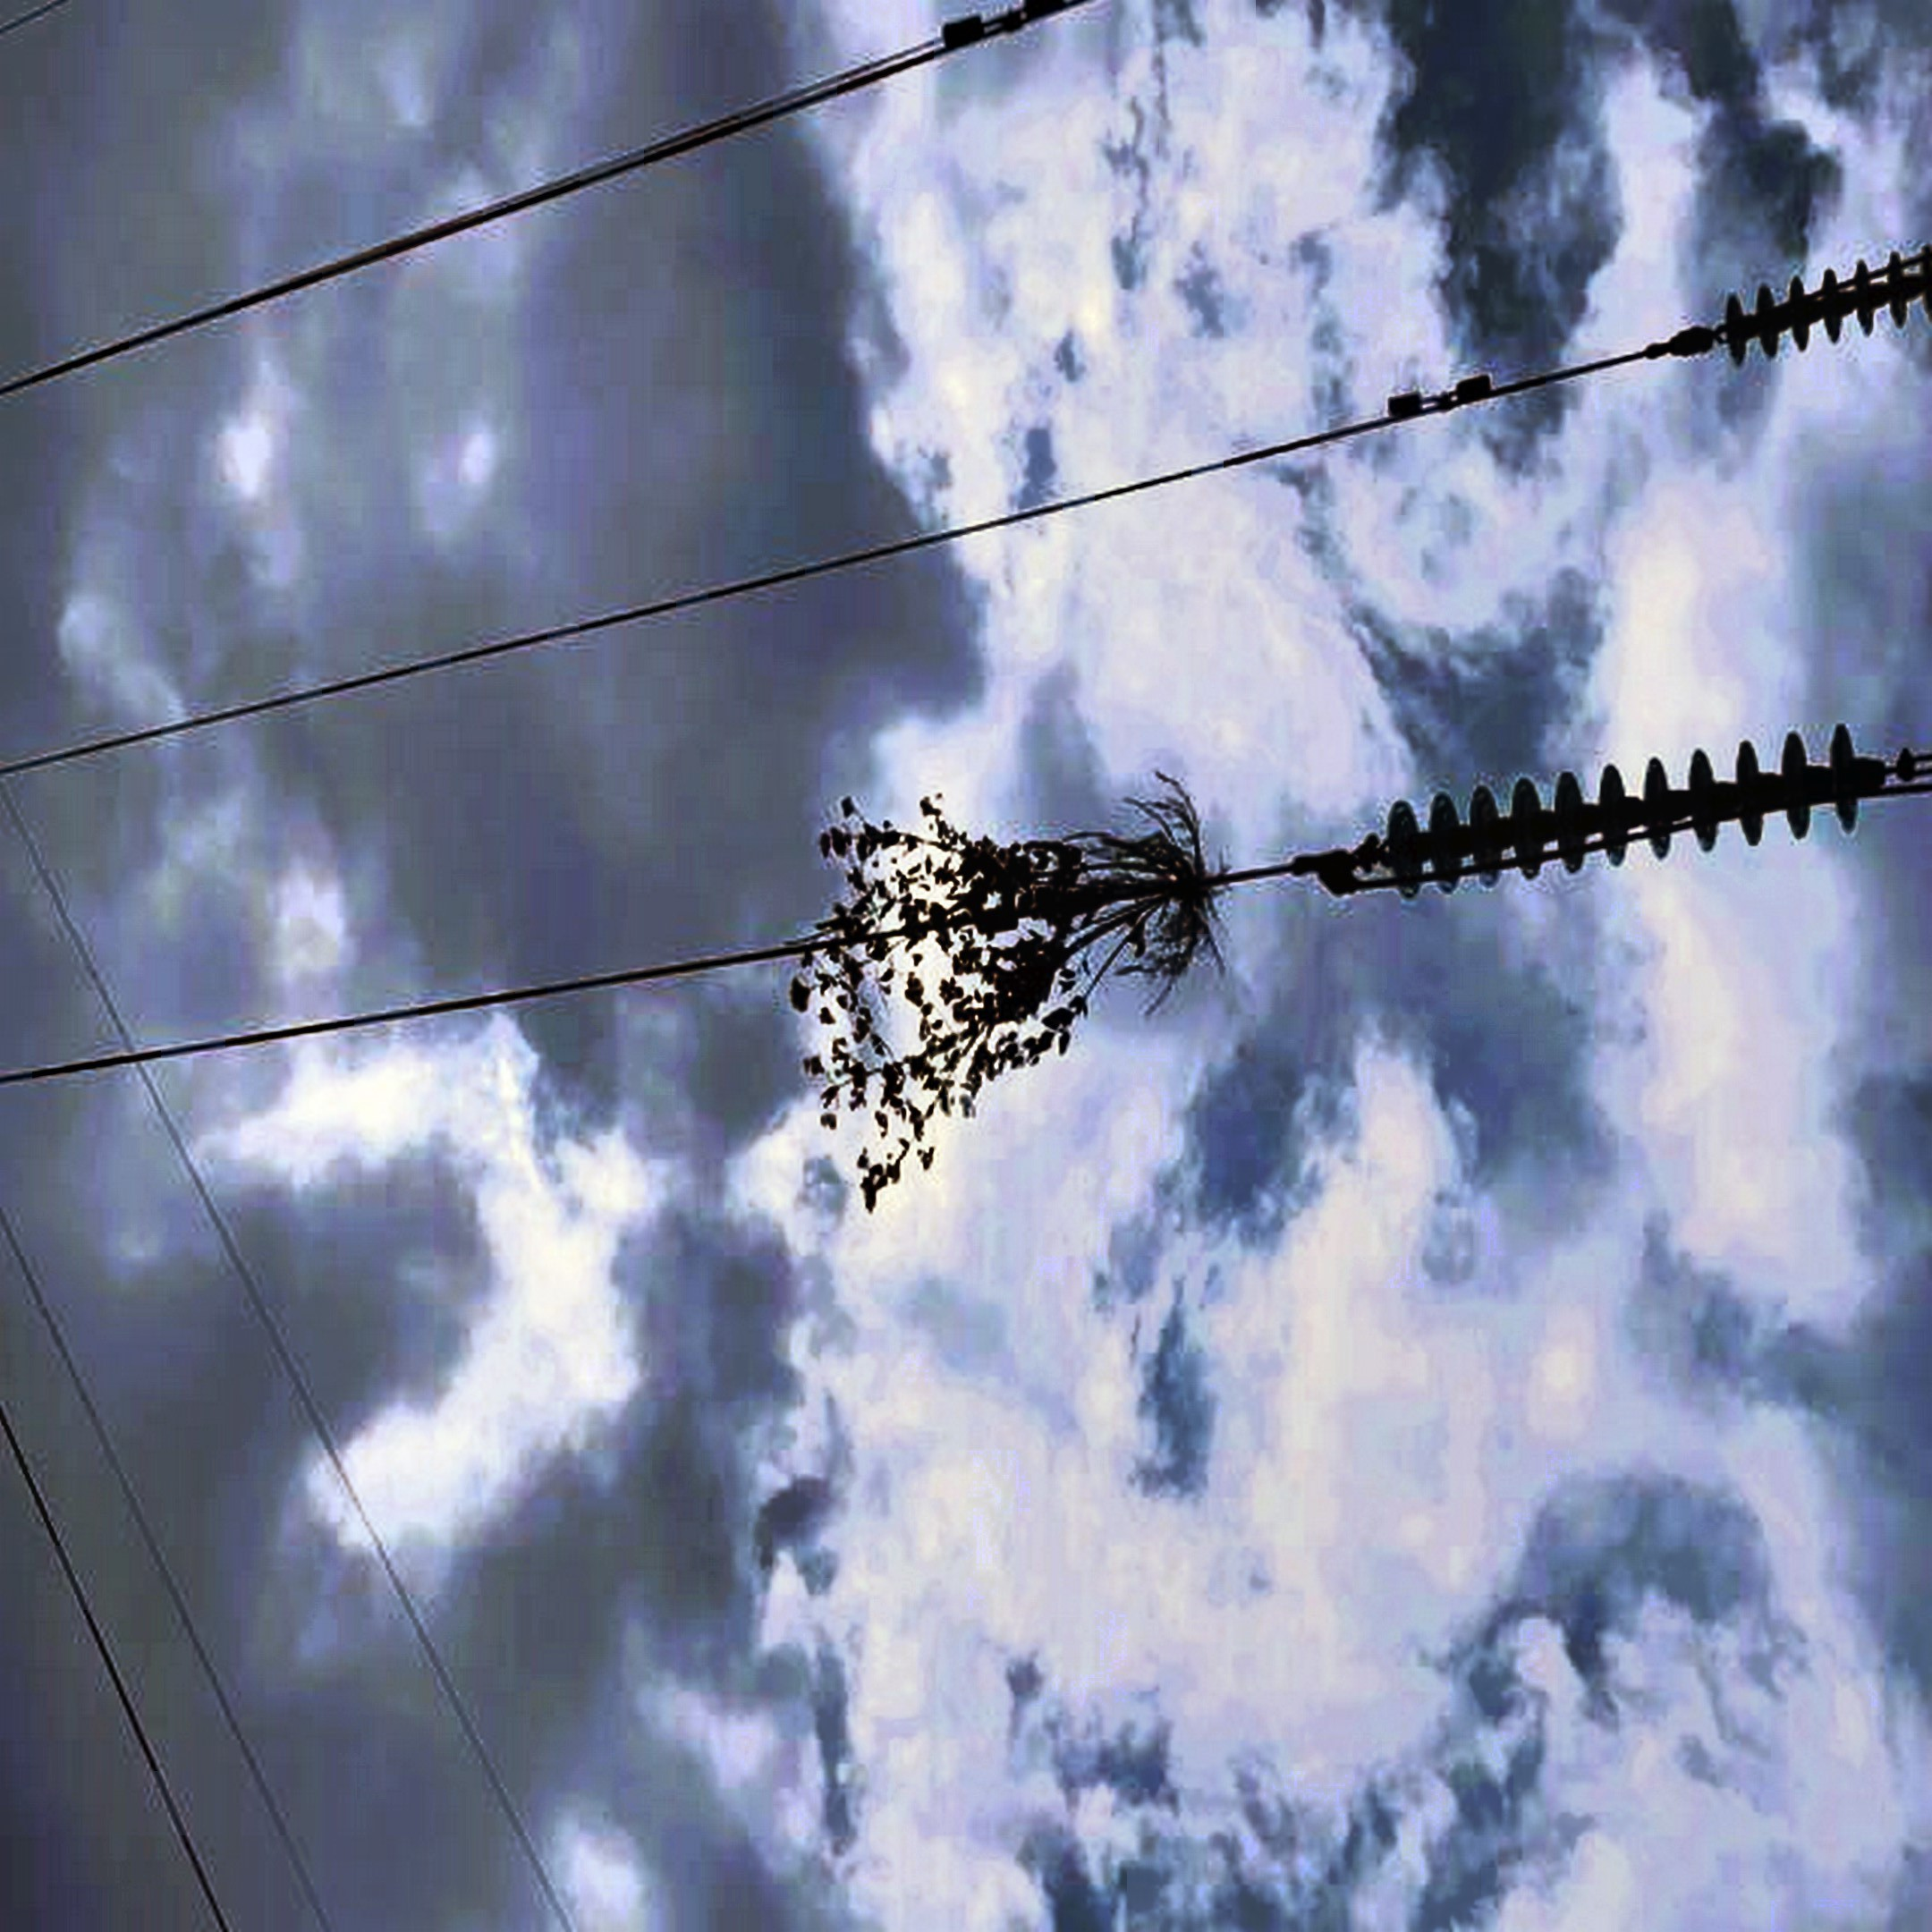wire foreign body: (759, 782, 1254, 1215)
